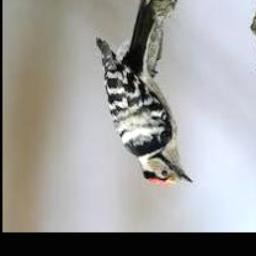Woodpecker: (96, 0, 193, 186)
